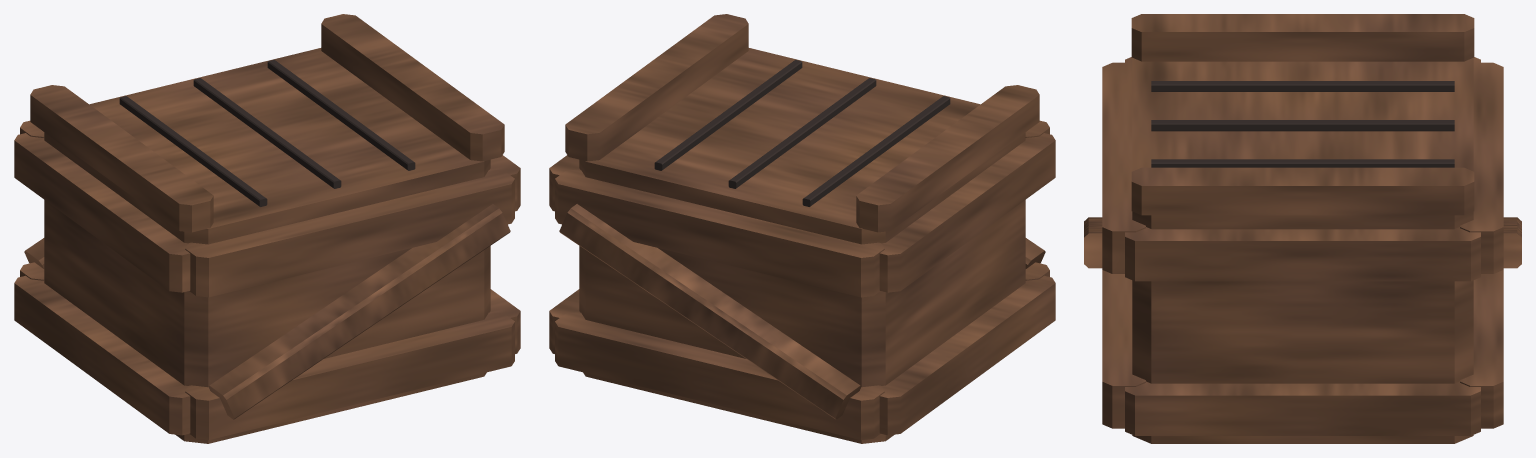
File: crate.glb
The picture shows the model from 3 angles, left to right: view 1: azimuth 30°, elevation 25°; view 2: azimuth 150°, elevation 25°; view 3: azimuth 270°, elevation 25°; orthographic projection. The views are drawn at different scales.
Parts seen in each view (by area): view 1: Crate; view 2: Crate; view 3: Crate.
Boxes of the visible parts, left/top/right/bottom form: Crate: left=14, top=14, right=520, bottom=443; Crate: left=549, top=14, right=1055, bottom=443; Crate: left=1084, top=14, right=1521, bottom=443.
Bounding box in the file's own units: 1.04 × 0.6895 × 1.04.
2 materials, 1 textured.
